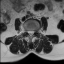CCS_normal: (29, 28, 31, 38)
LFS_stenosis: (33, 28, 36, 34)
LLS_normal: (31, 28, 33, 36)
RFS_normal: (25, 27, 27, 34)
RLS_normal: (27, 28, 29, 36)
